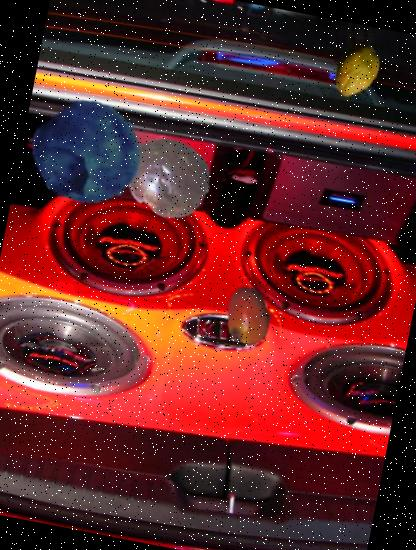Huckleberry: (26, 92, 149, 215)
Kaki: (214, 280, 284, 350)
Papaya: (324, 38, 388, 102)
Passion: (116, 126, 218, 229)
